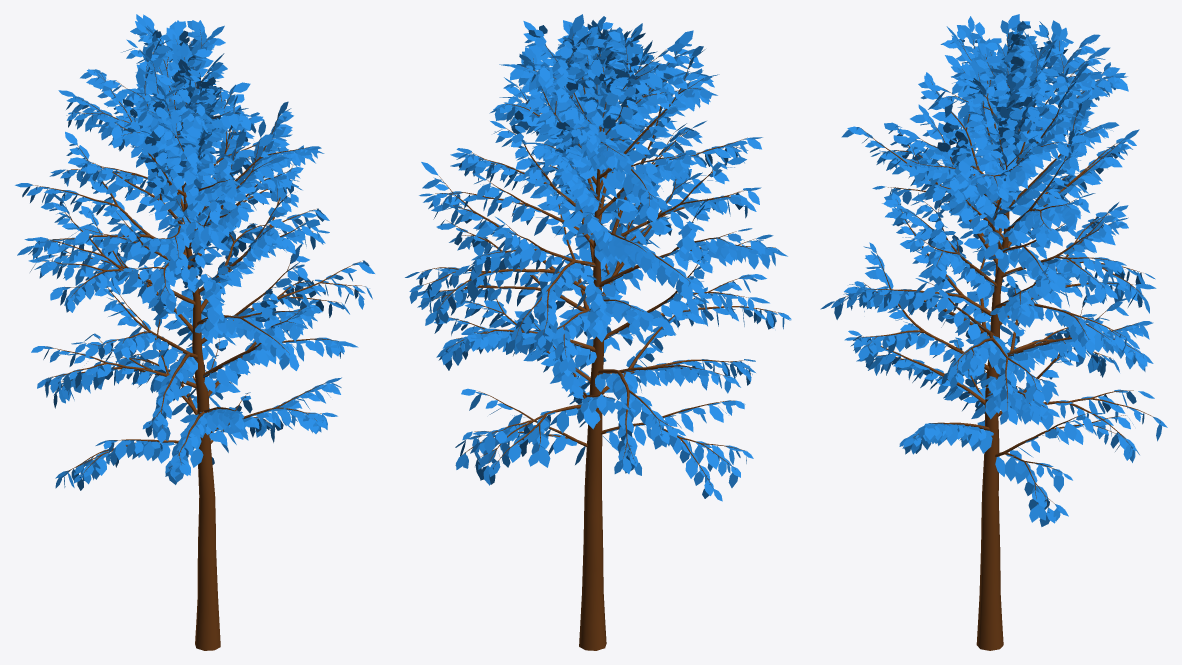
Rendered from BlueTree1.fbx.
3 views of the same model, side by side, from view 1: azimuth 30°, elevation 25°; view 2: azimuth 150°, elevation 25°; view 3: azimuth 270°, elevation 25° (orthographic). The views are drawn at different scales.
Visible parts, largest first — view 1: leaves, tree; view 2: leaves, tree; view 3: leaves, tree.
Boxes of the visible parts, <box> form: leaves: <box>15,14,374,490</box>; tree: <box>30,30,365,650</box>; leaves: <box>405,14,791,501</box>; tree: <box>417,28,781,650</box>; leaves: <box>820,14,1167,526</box>; tree: <box>836,31,1160,650</box>.
Size of the model in its own units: 908 by 1615 by 832.
